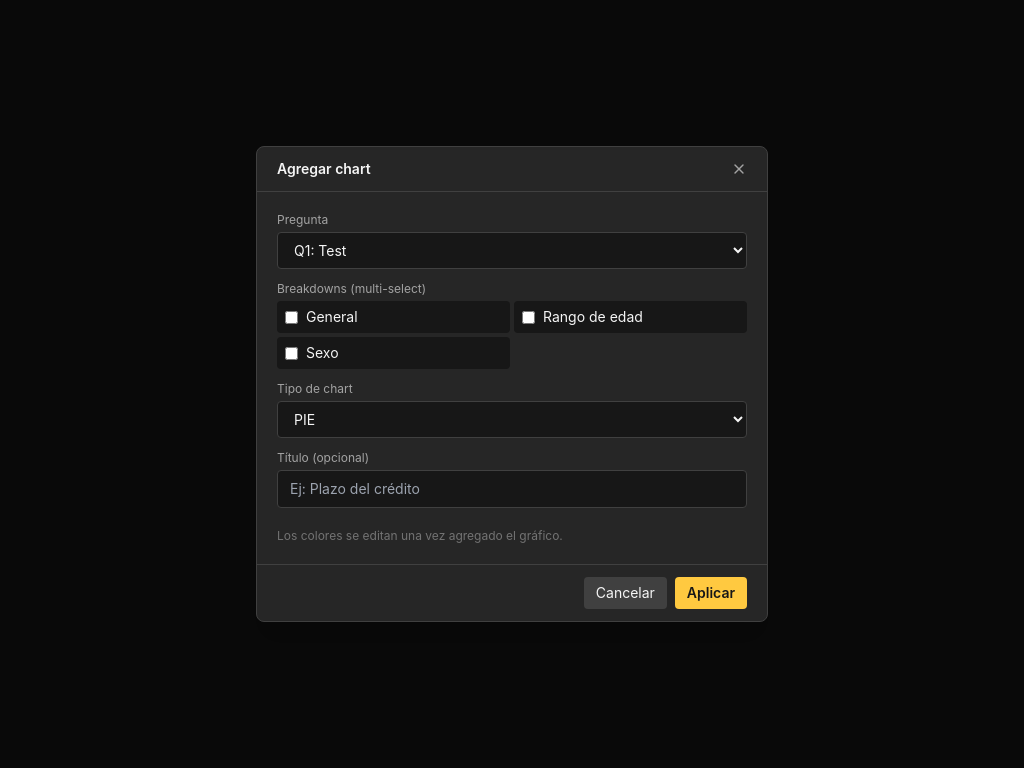
Scenario: AddChartModal — TABLE_WITH_MINIBARS visibility › show_legend checkbox renders only for BAR_HORIZONTAL_GROUPED or TABLE_WITH_MINIBARS
Expected: the field labelled "Mostrar leyenda" is not shown
Click the checkbox labelled "Rango de edad": (528,317) top-left (522, 310), bottom-right (535, 324)
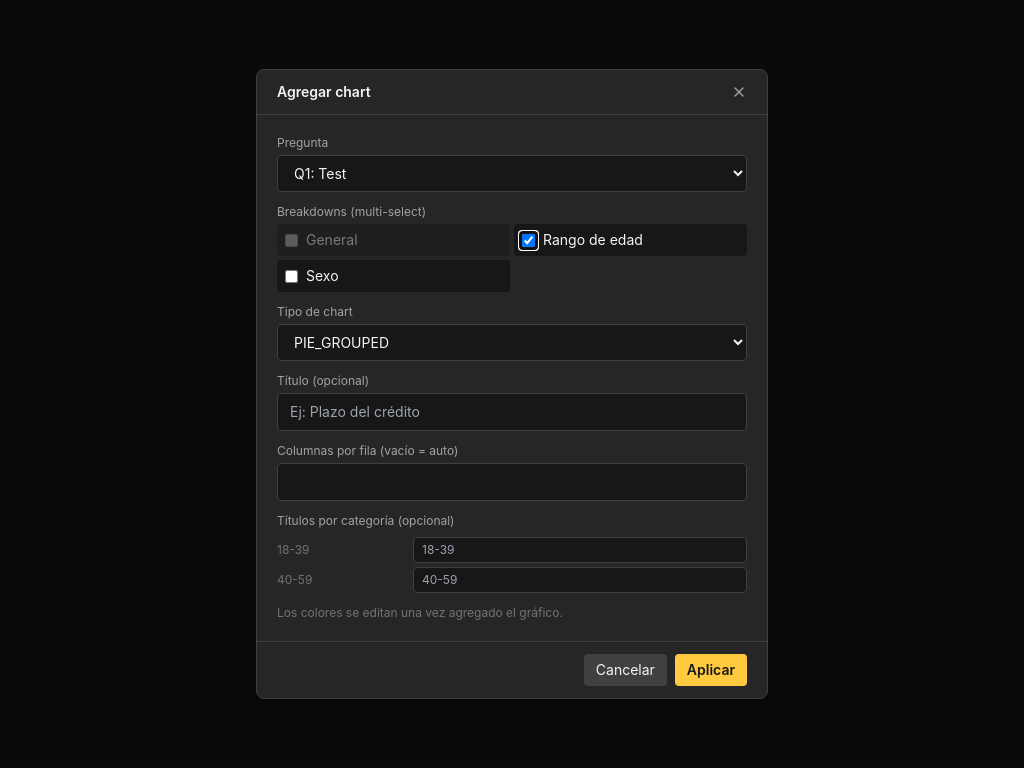
Select "BAR_HORIZONTAL_GROUPED" in the dropdown labelled "Tipo de chart": (512,342) top-left (277, 324), bottom-right (747, 361)
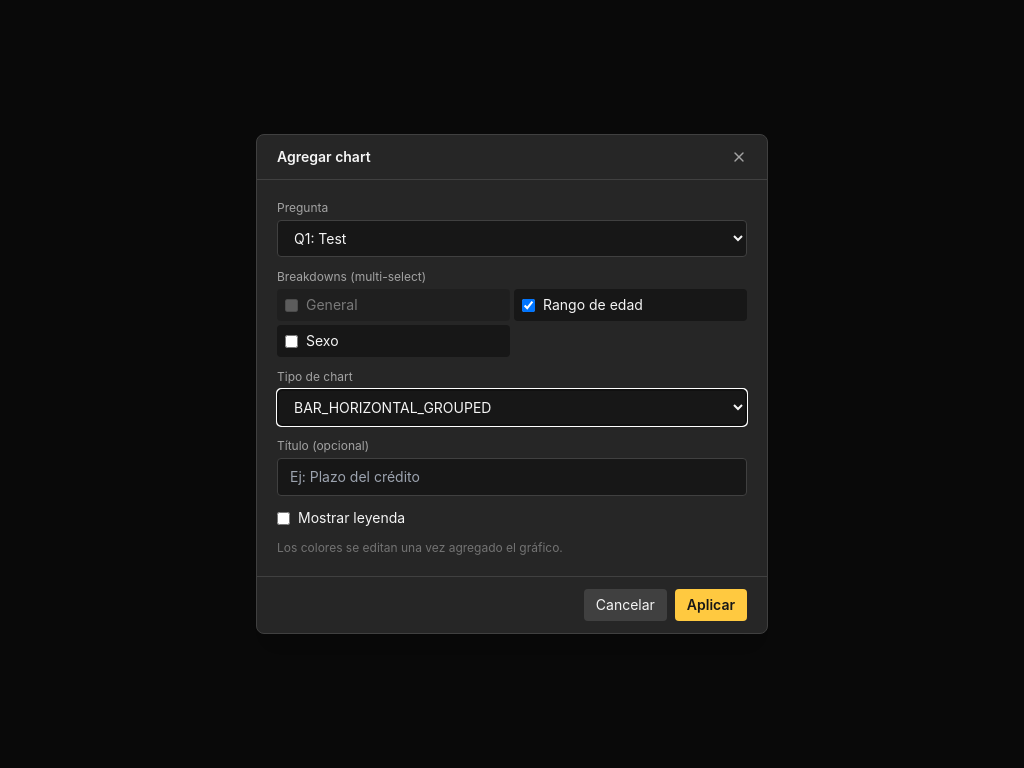
Expected: the checkbox labelled "Mostrar leyenda" is shown, top-left (277, 512), bottom-right (290, 524)
Select "PIE_GROUPED" in the dropdown labelled "Tipo de chart": (512,408) top-left (277, 389), bottom-right (747, 426)
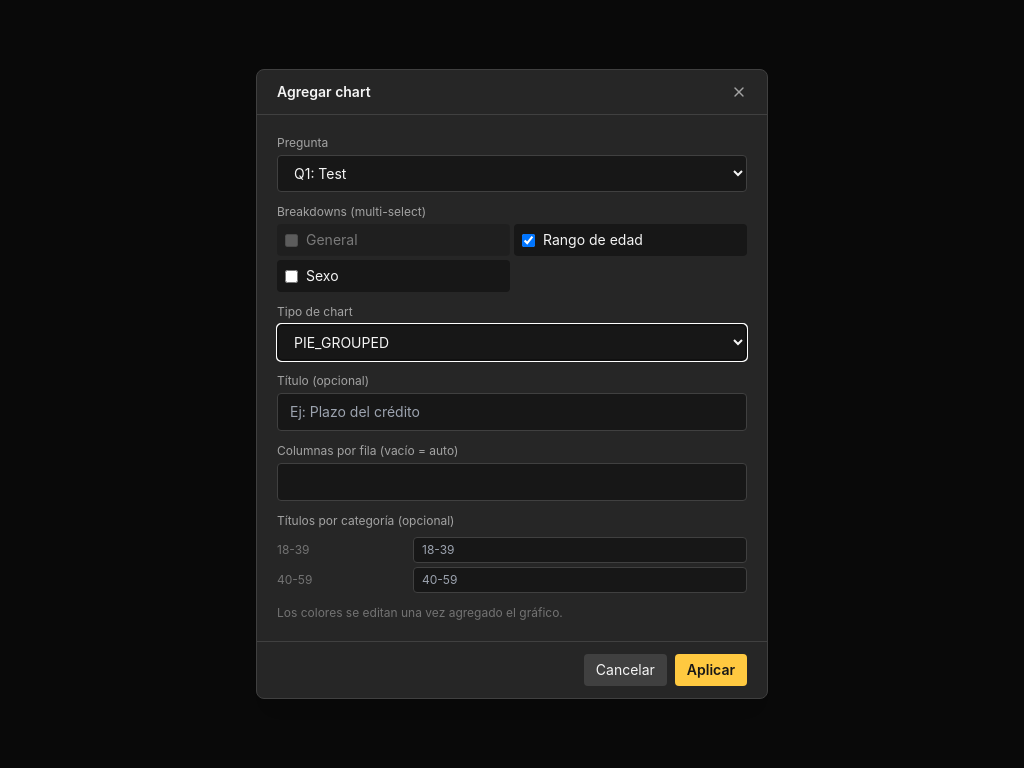
Expected: the label labelled "Mostrar leyenda" is gone
